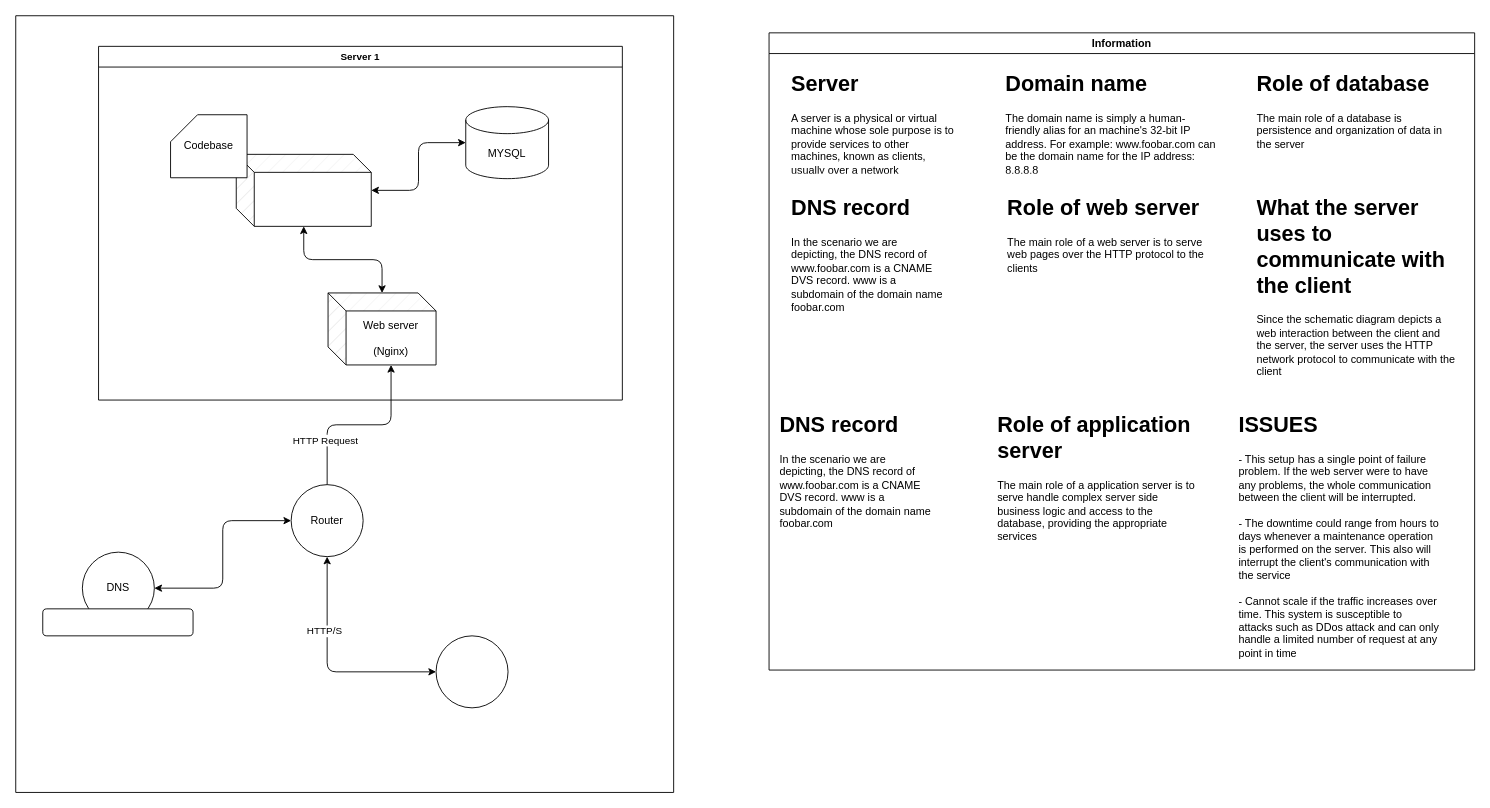
Image size: 1490x808. Some labels were removed from this diagram. The shapes that lost their labels are listed below. From the top down, each one's centre as x and y in pixels, then its label:
the point at 303,189: Application server (Django)
the point at 117,622: www.foobar.com
the point at 471,671: CLIENT
